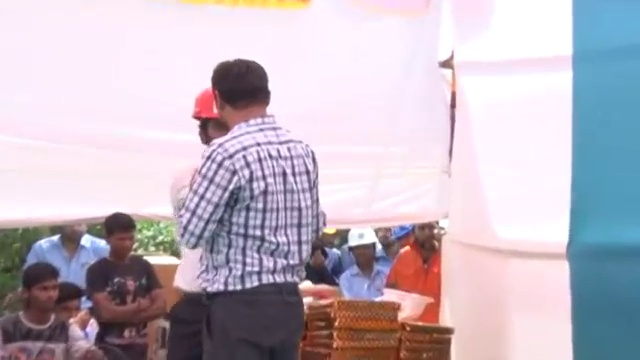helmet: (379, 287, 434, 323), (191, 86, 223, 122), (345, 226, 378, 249)
helmet_off: (209, 59, 275, 130), (19, 263, 61, 325), (101, 212, 139, 261), (52, 281, 86, 326), (410, 219, 441, 254), (56, 220, 90, 248), (373, 226, 396, 248), (321, 227, 338, 249)
helmet_on: (191, 86, 234, 148), (345, 227, 378, 268)
person: (178, 58, 318, 360), (167, 85, 236, 359), (85, 212, 170, 360), (1, 262, 89, 349), (391, 218, 447, 323), (25, 223, 111, 290), (340, 226, 396, 301)
